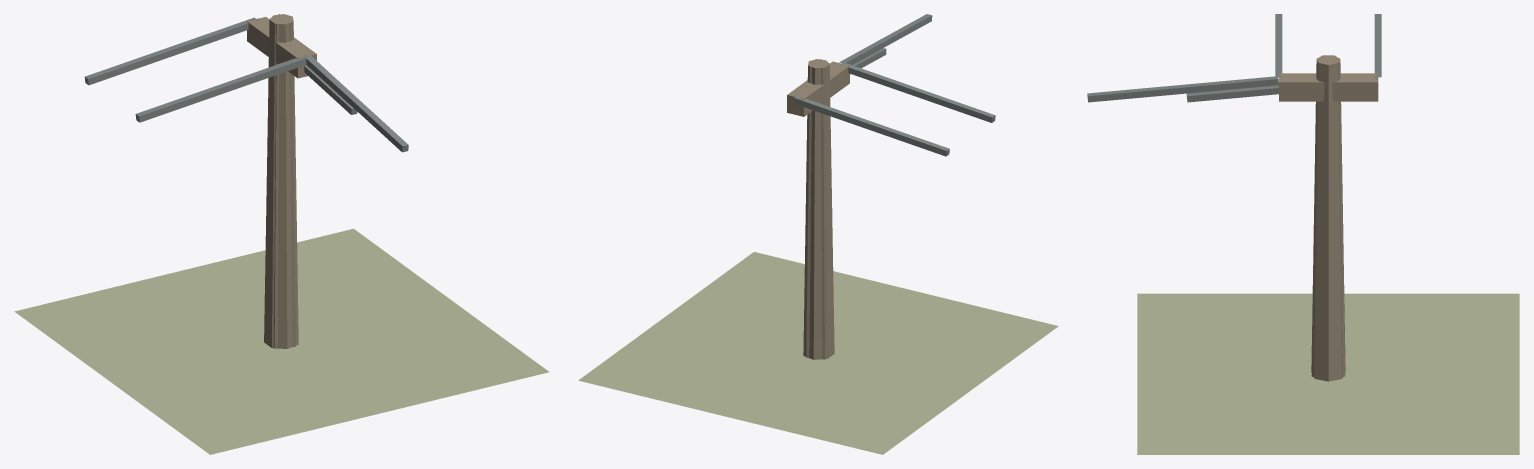
3 views of the same model, side by side, from view 1: azimuth 30°, elevation 25°; view 2: azimuth 150°, elevation 25°; view 3: azimuth 270°, elevation 25° (orthographic). The views are drawn at different scales.
Parts seen in each view (by area): view 1: Near, Far; view 2: Near, Far; view 3: Near, Far.
Part boxes in pixels (x1=…): Near: x1=14, y1=14, x2=549, y2=454; Far: x1=270, y1=14, x2=295, y2=348; Near: x1=578, y1=14, x2=1058, y2=454; Far: x1=806, y1=59, x2=829, y2=359; Near: x1=1087, y1=14, x2=1519, y2=454; Far: x1=1311, y1=55, x2=1345, y2=376.
Bounding box in the file's own units: 1 × 0.91 × 1.13.
